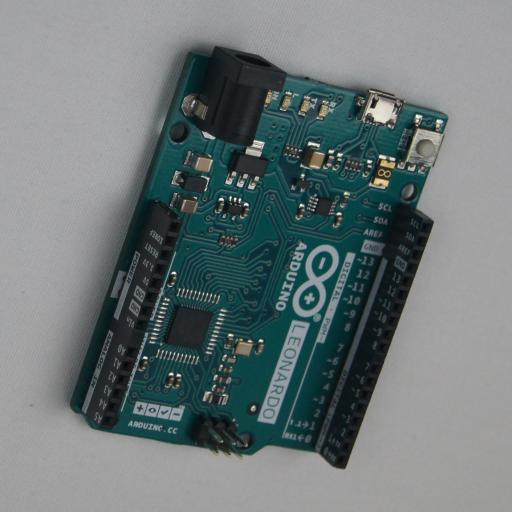Arduino Leonardo: (63, 44, 448, 469)
